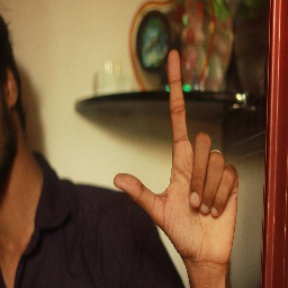L: (109, 48, 243, 259)
